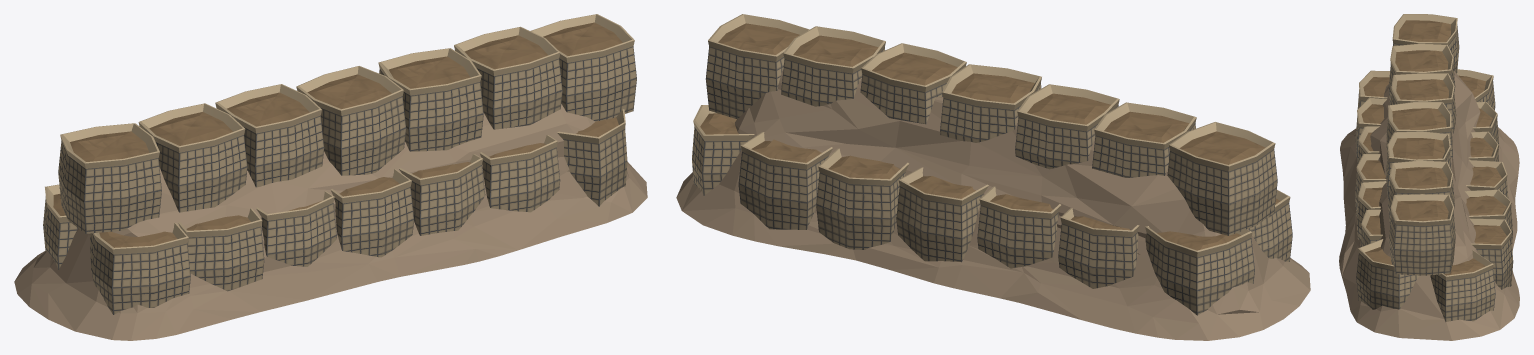
Rendered from SM_Prop_Barrier_Base_Group_04.fbx.
The picture shows the model from 3 angles, left to right: view 1: azimuth 30°, elevation 25°; view 2: azimuth 150°, elevation 25°; view 3: azimuth 270°, elevation 25°; orthographic projection. The views are drawn at different scales.
Visible parts, largest first — view 1: SM_Prop_Barrier_Base_Group_04; view 2: SM_Prop_Barrier_Base_Group_04; view 3: SM_Prop_Barrier_Base_Group_04.
Boxes of the visible parts, <box> form: SM_Prop_Barrier_Base_Group_04: <box>14,14,647,340</box>; SM_Prop_Barrier_Base_Group_04: <box>676,14,1310,340</box>; SM_Prop_Barrier_Base_Group_04: <box>1339,14,1519,340</box>.
Bounding box in the file's own units: 895 × 219 × 308.
